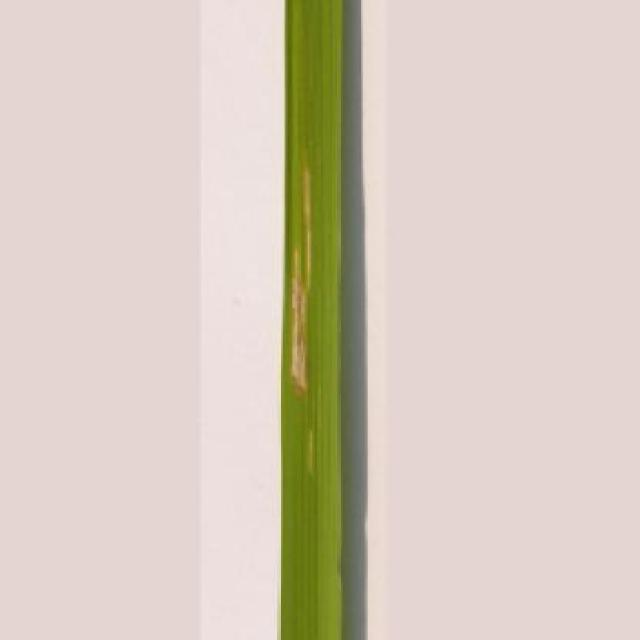Brown_Spot: (273, 0, 353, 640)
